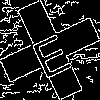E: (25, 25, 74, 80)
